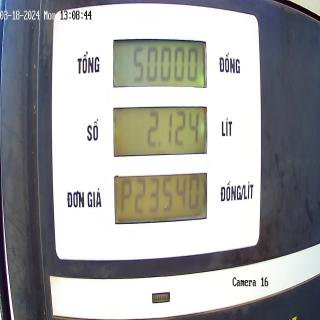screen: (110, 34, 209, 230)
